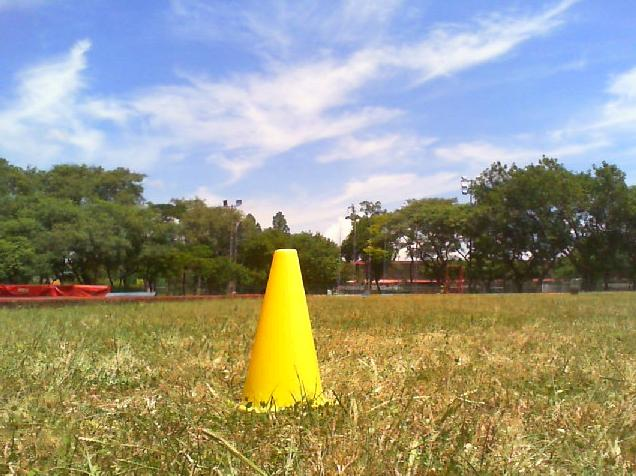0 cone: (238, 249, 331, 412)
